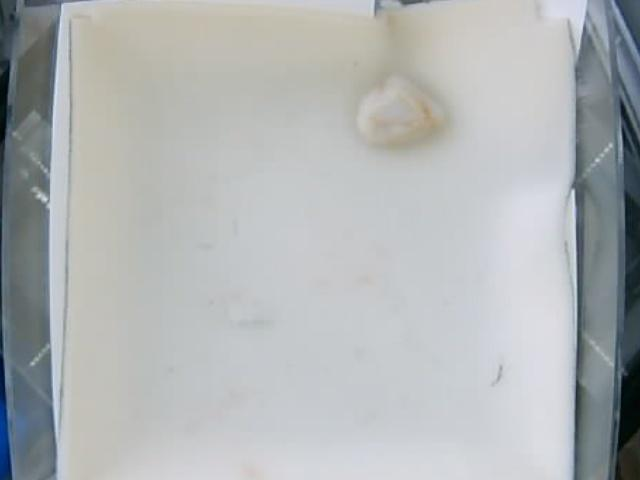Pebble: (355, 71, 447, 148)
